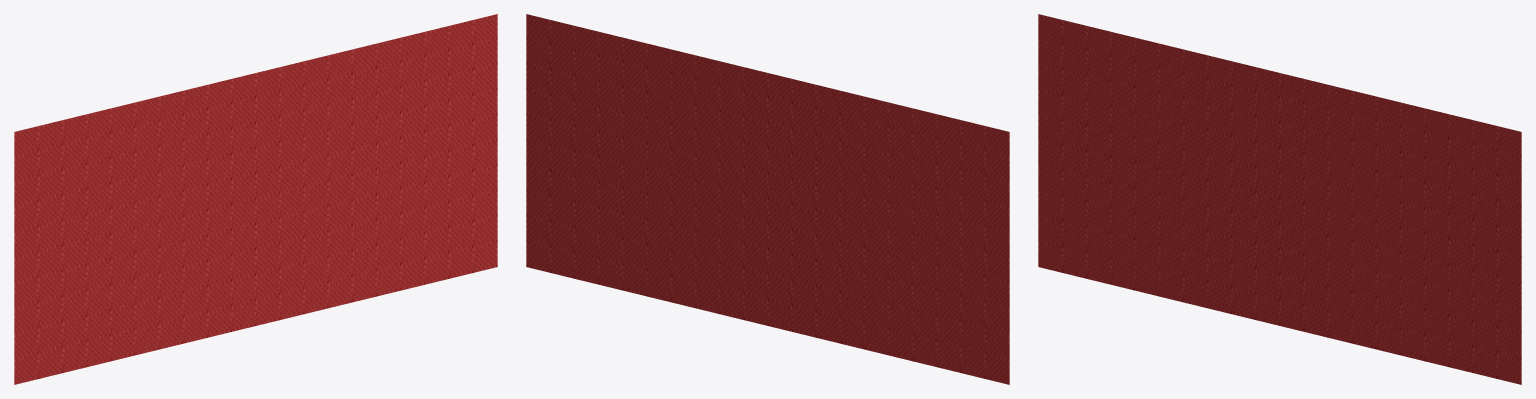
File: Wall_DiningRoom04.fbx
The picture shows the model from 3 angles, left to right: view 1: azimuth 30°, elevation 25°; view 2: azimuth 150°, elevation 25°; view 3: azimuth 330°, elevation 25°; orthographic projection.
Parts seen in each view (by area): view 1: Wall_DiningRoom04; view 2: Wall_DiningRoom04; view 3: Wall_DiningRoom04.
Boxes of the visible parts, bbox=[...] form: Wall_DiningRoom04: bbox=[14, 14, 497, 384]; Wall_DiningRoom04: bbox=[526, 14, 1009, 384]; Wall_DiningRoom04: bbox=[1038, 14, 1521, 384].
Bounding box in the file's own units: 2000 × 1000 × 0.
